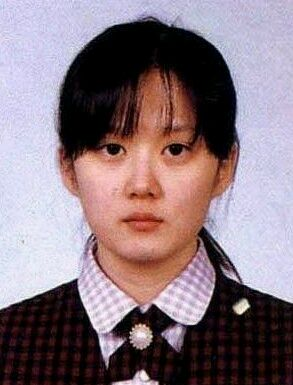unmask: (74, 99, 213, 259)
